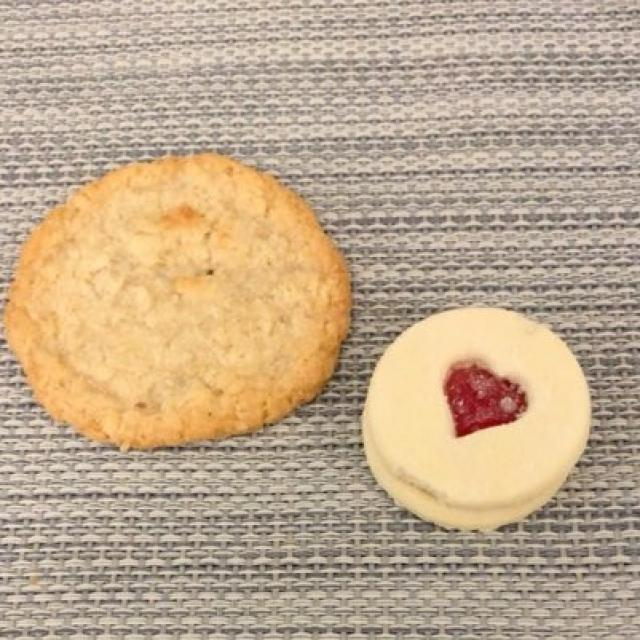biscuits: (22, 159, 349, 446)
